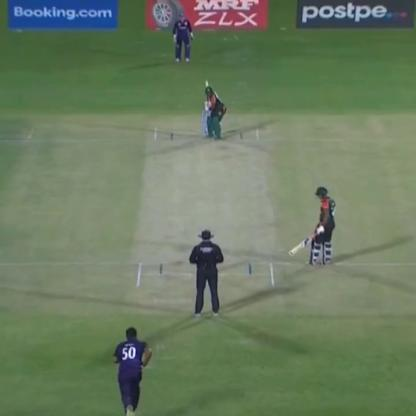bat: (294, 225, 317, 263), (205, 77, 215, 108)
pitch: (125, 114, 278, 301)
